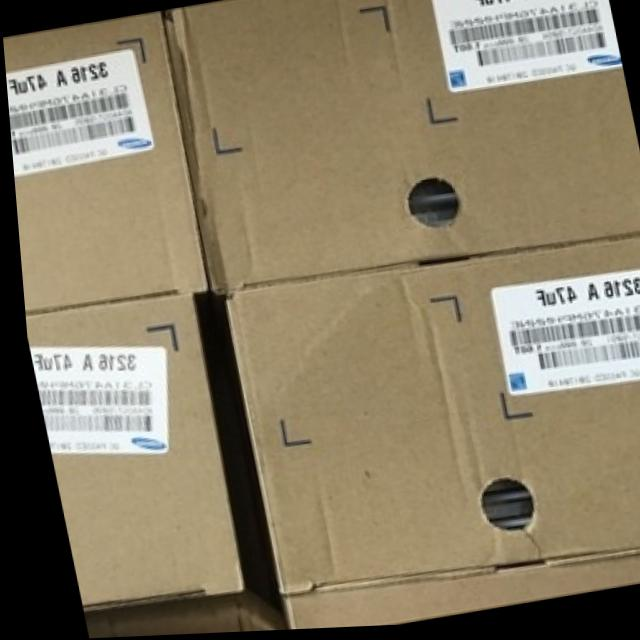box: (218, 238, 640, 595), (161, 0, 640, 293), (20, 291, 233, 614), (2, 14, 202, 314), (270, 556, 640, 632)
